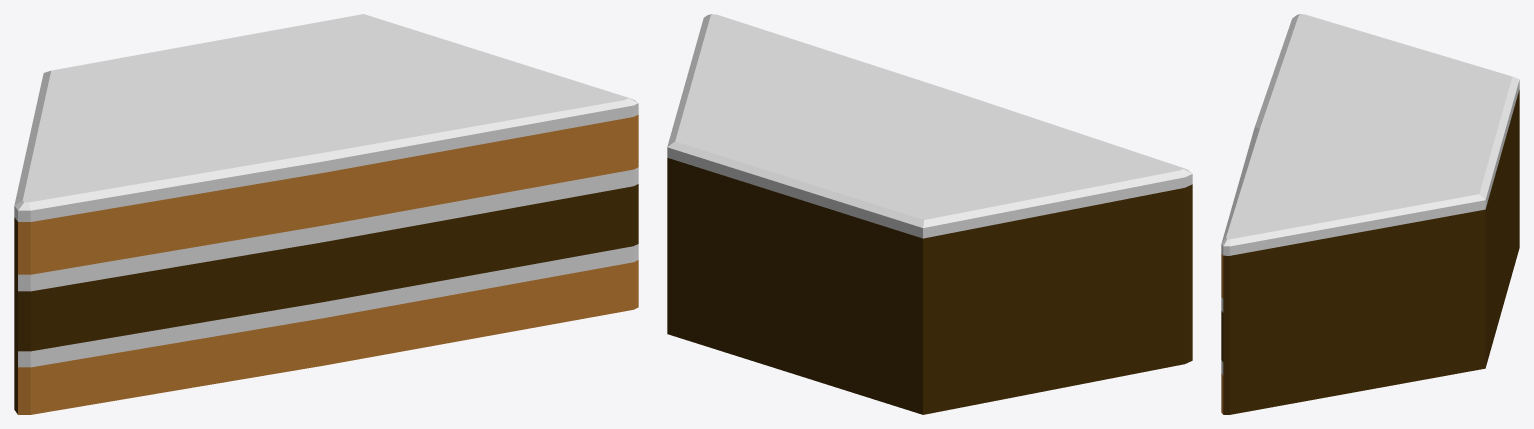
File: C_Cake_3.fbx
The picture shows the model from 3 angles, left to right: view 1: azimuth 30°, elevation 25°; view 2: azimuth 150°, elevation 25°; view 3: azimuth 270°, elevation 25°; orthographic projection. The views are drawn at different scales.
Visible parts, largest first — view 1: C_Cake_3; view 2: C_Cake_3; view 3: C_Cake_3.
Boxes of the visible parts, bbox=[...] form: C_Cake_3: bbox=[14, 14, 638, 414]; C_Cake_3: bbox=[667, 14, 1192, 414]; C_Cake_3: bbox=[1221, 14, 1519, 414].
Bounding box in the file's own units: 166 × 90.05 × 57.43.
